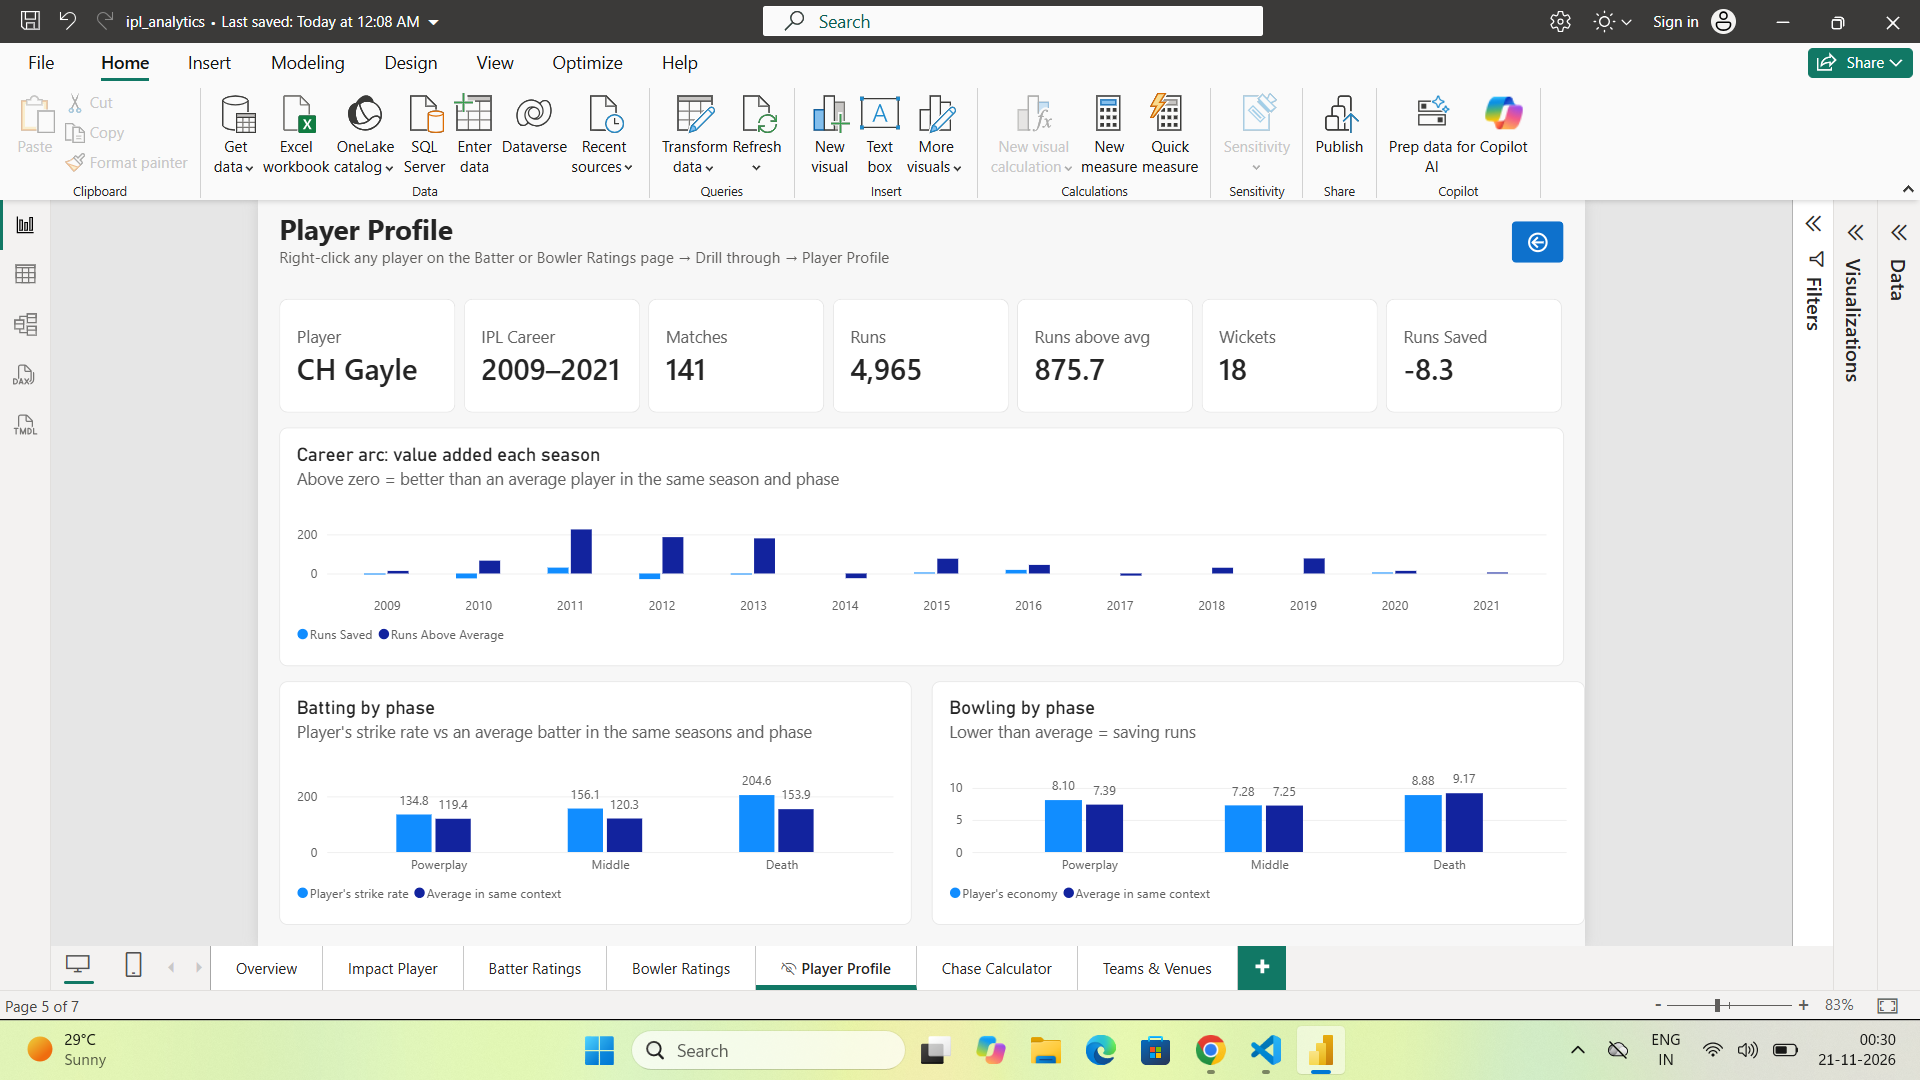

This screenshot's page, from the dashboard's own definition file:
{"tool":"powerbi","page":{"name":"Player Profile","canvas":[1280,720],"ordinal":4},"visuals":[{"type":"textbox","box":[20,10,900,70],"z":0},{"type":"cardVisual","fields":{"Data":["_Measures.Player Name","_Measures.Player Career","_Measures.Player Matches","_Measures.Runs Display","_Measures.Runs Above Average","_Measures.Bowl Wickets","_Measures.Runs Saved Display"]},"box":[20,95,1240,110],"z":1000},{"type":"actionButton","box":[1210,20,50,40],"z":2000},{"type":"clusteredColumnChart","title":"Career arc: value added each season","fields":{"Category":["dim_season.season"],"Y":["_Measures.Runs Saved","_Measures.Runs Above Average"]},"box":[20,220,1240,230],"z":3000},{"type":"clusteredColumnChart","title":"Batting by phase","fields":{"Category":["dim_phase.phase"],"Y":["_Measures.Strike Rate","_Measures.Average SR in Context"]},"box":[20,465,610,235],"z":4000},{"type":"clusteredColumnChart","title":"Bowling by phase","fields":{"Category":["dim_phase.phase"],"Y":["_Measures.Economy","_Measures.Average Economy in Context"]},"box":[650,465,630,235],"z":5000}]}

Visuals, with their boxes on the page's 1280x720 design canvas (x1, y1, x2, y2). These are canvas units, not pixel positions in the 1920x1080 screenshot, which may show the page scaled, cropped or inside an application window:
textbox: <region>20, 10, 920, 80</region>
cardVisual - _Measures.Player Name x _Measures.Player Career: <region>20, 95, 1260, 205</region>
actionButton: <region>1210, 20, 1260, 60</region>
"Career arc: value added each season" clusteredColumnChart: <region>20, 220, 1260, 450</region>
"Batting by phase" clusteredColumnChart: <region>20, 465, 630, 700</region>
"Bowling by phase" clusteredColumnChart: <region>650, 465, 1280, 700</region>
